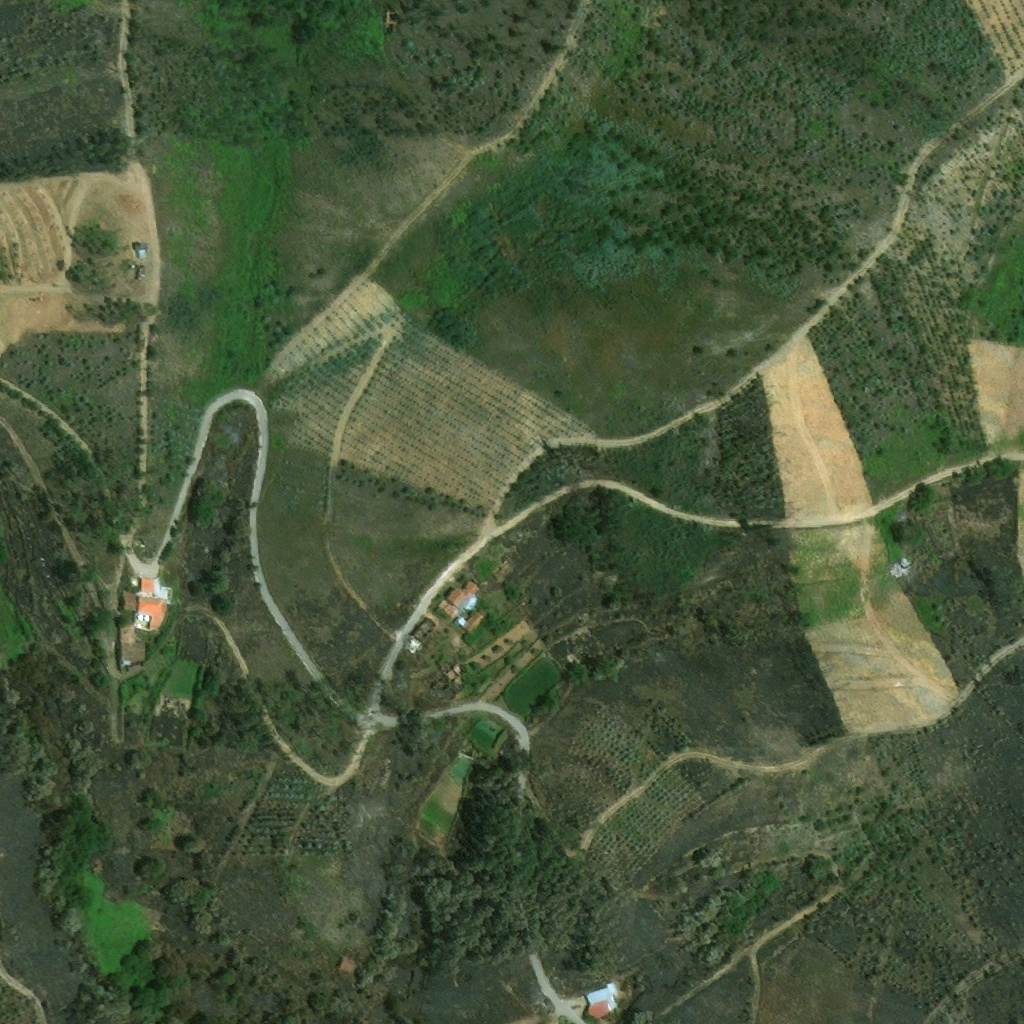0 no-damage: (584, 981, 620, 1020), (445, 579, 480, 613), (138, 597, 169, 630), (453, 608, 486, 633), (435, 598, 460, 622), (334, 955, 356, 973), (138, 577, 154, 597)
1 minor-damage: (117, 624, 147, 672), (120, 589, 136, 611)
3 destroyed: (407, 616, 436, 652)
